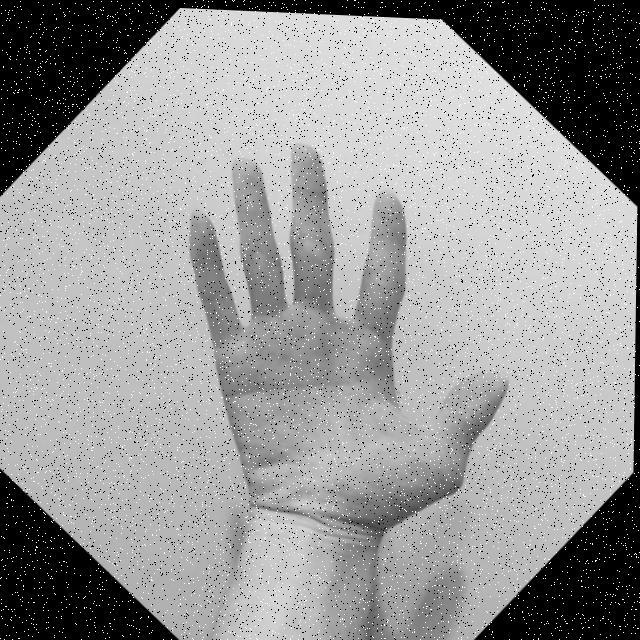no-gloves: (48, 74, 598, 632)
